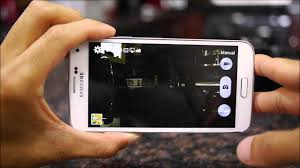camera: (217, 74, 232, 99)
